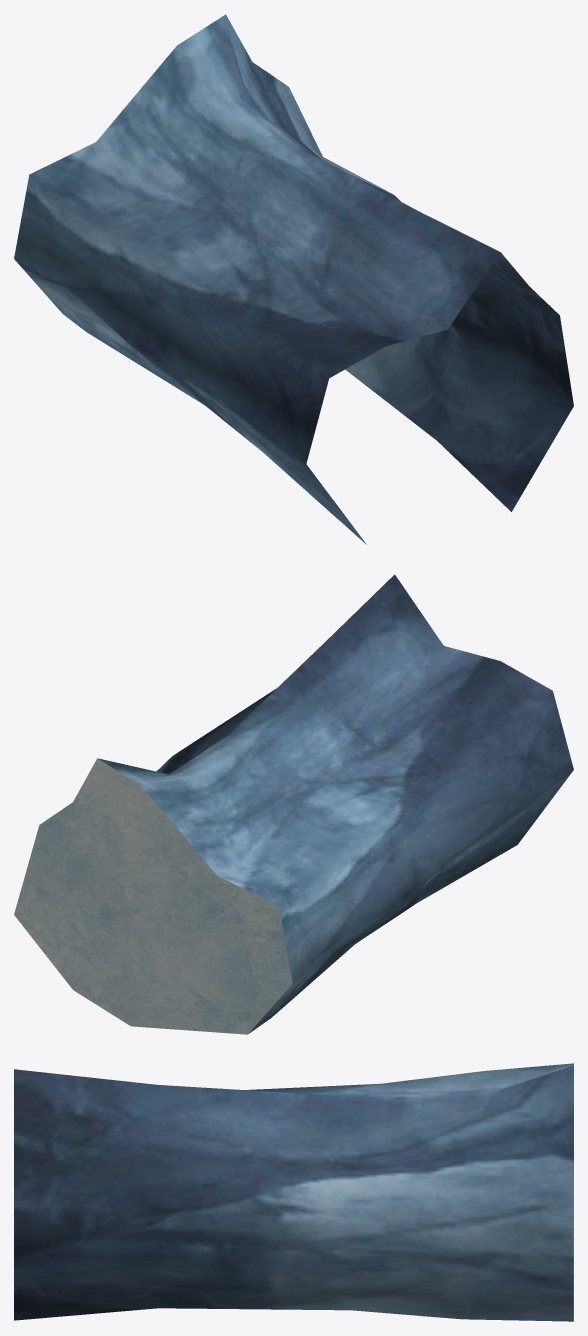
The picture shows the model from 3 angles, top to bottom: view 1: azimuth 30°, elevation 25°; view 2: azimuth 150°, elevation 25°; view 3: azimuth 270°, elevation 25°; orthographic projection. The views are drawn at different scales.
Visible parts, largest first — view 1: Object13; view 2: Object13; view 3: Object13.
Boxes of the visible parts, box(x1,y1,x2,y2) form: Object13: box(14, 14, 573, 544); Object13: box(14, 574, 573, 1034); Object13: box(14, 1063, 573, 1321).
Bounding box in the file's own units: 28973 × 25288 × 48561.
